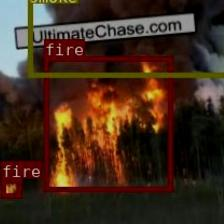fire: (44, 56, 172, 190), (0, 177, 20, 196)
smoke: (26, 0, 224, 77)
